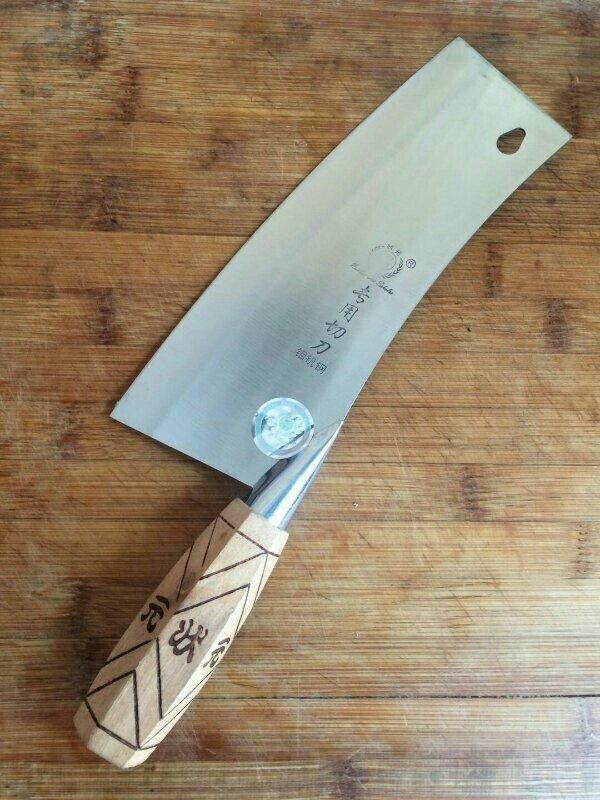knief: (94, 45, 545, 772)
